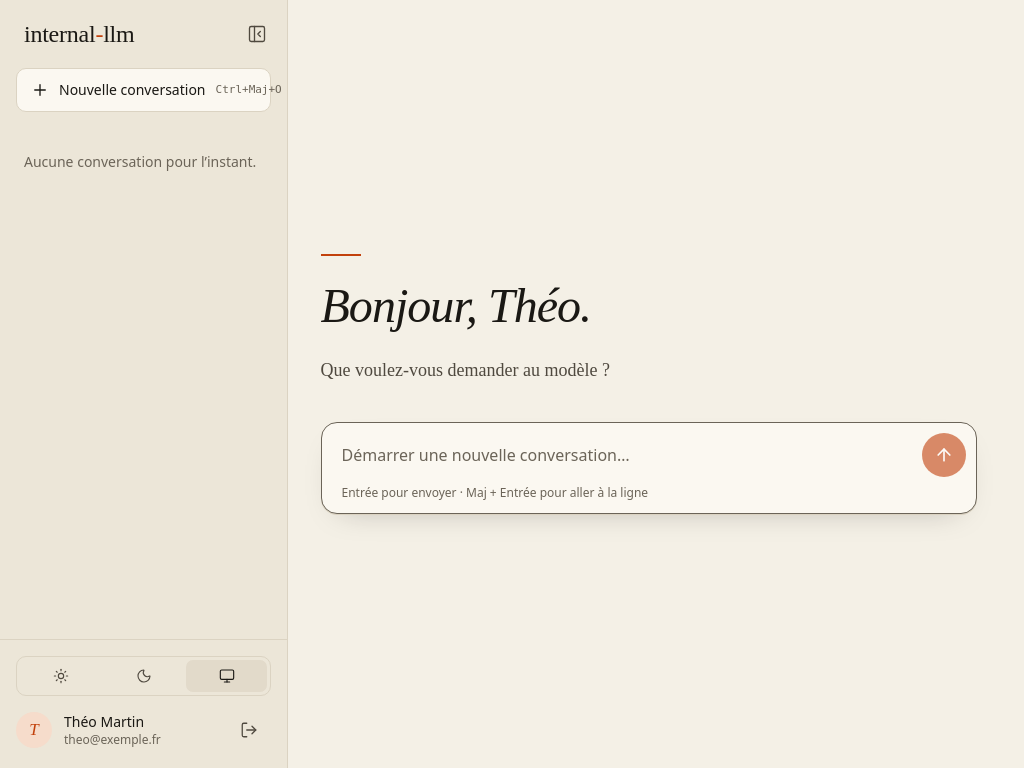
authentication › logs out
Check: the heading "Bonjour, Théo." is shown, box [320, 279, 591, 332]
Click the button named "Se déconnecter": click(249, 730) [227, 708, 271, 752]
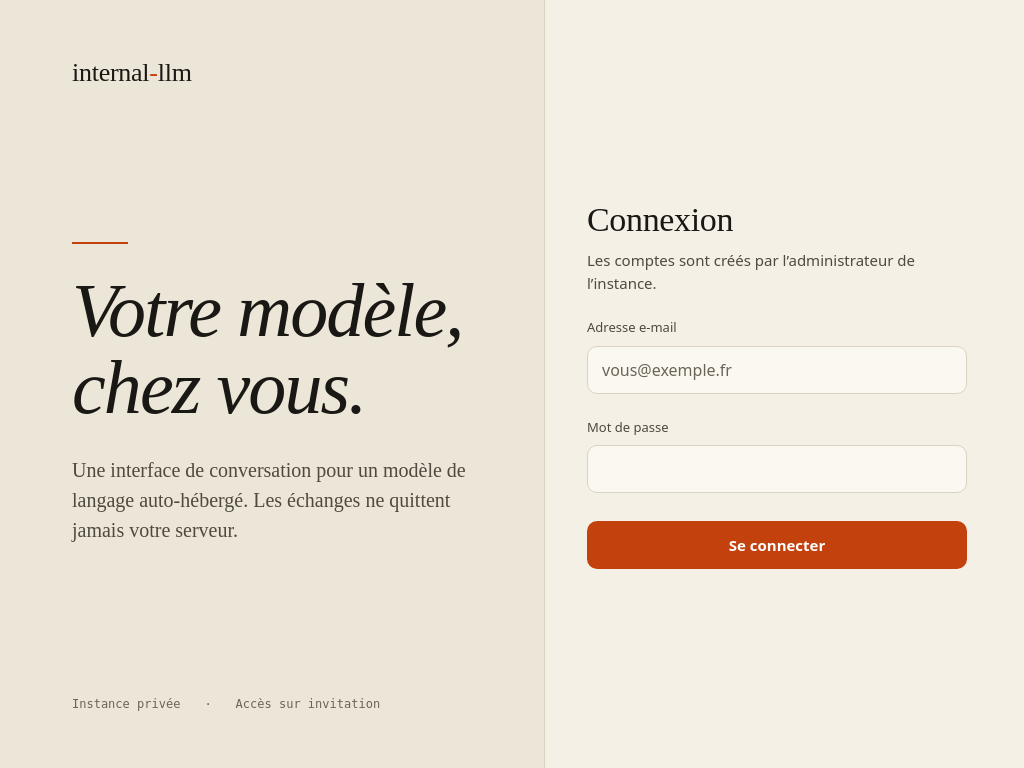
Check: the heading "Connexion" is shown, box [587, 201, 733, 238]
